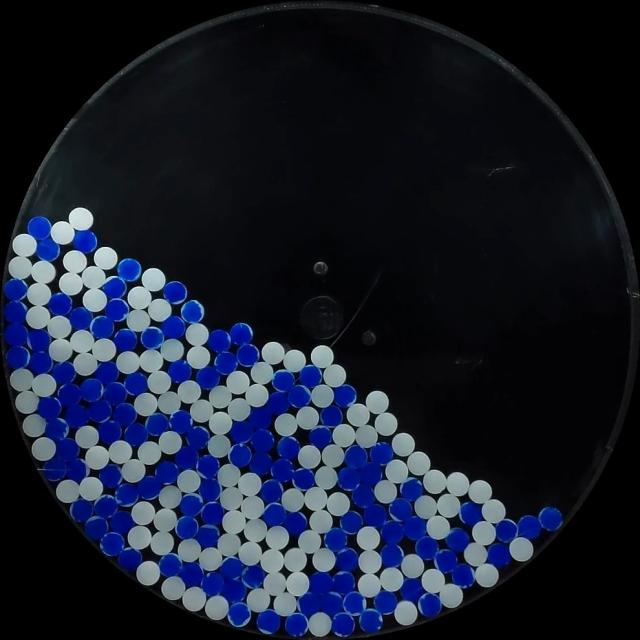pmmma-azul: (227, 601, 252, 628), (178, 561, 203, 587), (201, 571, 226, 597), (93, 494, 119, 519), (444, 527, 470, 552), (249, 428, 274, 454), (99, 531, 125, 556), (358, 608, 383, 633), (256, 609, 281, 634), (37, 395, 62, 420), (116, 547, 142, 571), (283, 510, 307, 536), (220, 556, 244, 582), (451, 562, 475, 588), (136, 475, 162, 499), (200, 501, 224, 526), (262, 502, 287, 526), (270, 458, 295, 482), (167, 359, 192, 383), (79, 378, 104, 402), (98, 419, 122, 444), (228, 443, 252, 468), (84, 515, 108, 540), (486, 543, 511, 567), (161, 315, 186, 339), (155, 460, 179, 485), (284, 612, 308, 637), (343, 444, 368, 468), (123, 422, 148, 446), (104, 381, 128, 406), (4, 322, 29, 346), (105, 298, 130, 322), (198, 478, 222, 503), (381, 519, 405, 544), (230, 419, 254, 444), (363, 503, 388, 527), (538, 506, 562, 531), (241, 564, 265, 589), (48, 292, 73, 316), (369, 441, 394, 465), (27, 216, 52, 240), (337, 466, 361, 491), (65, 402, 89, 427), (516, 514, 541, 538), (459, 501, 483, 526), (335, 547, 359, 572), (45, 416, 69, 441), (43, 459, 69, 482), (494, 518, 518, 542), (58, 382, 82, 406), (146, 412, 170, 436), (110, 510, 134, 534), (124, 372, 148, 396), (175, 515, 199, 539), (266, 391, 290, 415), (331, 612, 355, 636), (402, 516, 426, 540), (175, 445, 199, 469), (28, 350, 52, 374), (169, 409, 193, 433), (342, 591, 366, 615), (114, 402, 138, 426), (55, 437, 79, 461), (178, 493, 202, 517), (69, 306, 93, 330), (207, 329, 231, 353), (181, 300, 205, 324), (70, 498, 94, 522), (95, 361, 119, 385), (195, 524, 219, 548), (299, 364, 323, 388), (28, 329, 52, 353), (309, 570, 333, 594), (6, 346, 30, 370), (158, 552, 182, 576), (115, 482, 139, 506), (221, 578, 245, 602), (319, 591, 343, 615), (163, 281, 188, 304), (418, 592, 441, 617), (415, 535, 438, 560), (102, 276, 127, 299), (140, 326, 165, 349), (117, 258, 142, 281), (400, 576, 423, 601), (434, 548, 457, 573), (73, 230, 98, 253), (87, 399, 113, 421), (260, 479, 283, 503), (333, 384, 357, 407), (99, 464, 122, 488), (196, 366, 220, 389), (324, 528, 347, 552), (197, 454, 220, 478), (374, 590, 397, 614), (272, 369, 295, 393), (277, 436, 300, 460), (214, 351, 238, 374), (389, 496, 412, 520), (114, 328, 138, 351), (230, 322, 253, 346), (236, 343, 260, 366), (4, 278, 28, 301), (380, 543, 403, 567), (91, 315, 114, 339), (186, 426, 209, 450), (4, 300, 28, 323), (36, 238, 60, 261), (51, 360, 75, 383), (66, 458, 89, 482), (357, 462, 382, 484), (340, 510, 363, 533), (292, 467, 315, 490), (288, 384, 311, 407), (400, 478, 423, 501), (298, 592, 320, 616), (332, 613, 354, 637), (320, 405, 343, 427), (332, 570, 354, 593), (309, 426, 332, 448), (249, 407, 272, 429), (250, 452, 270, 475), (353, 486, 372, 506)
